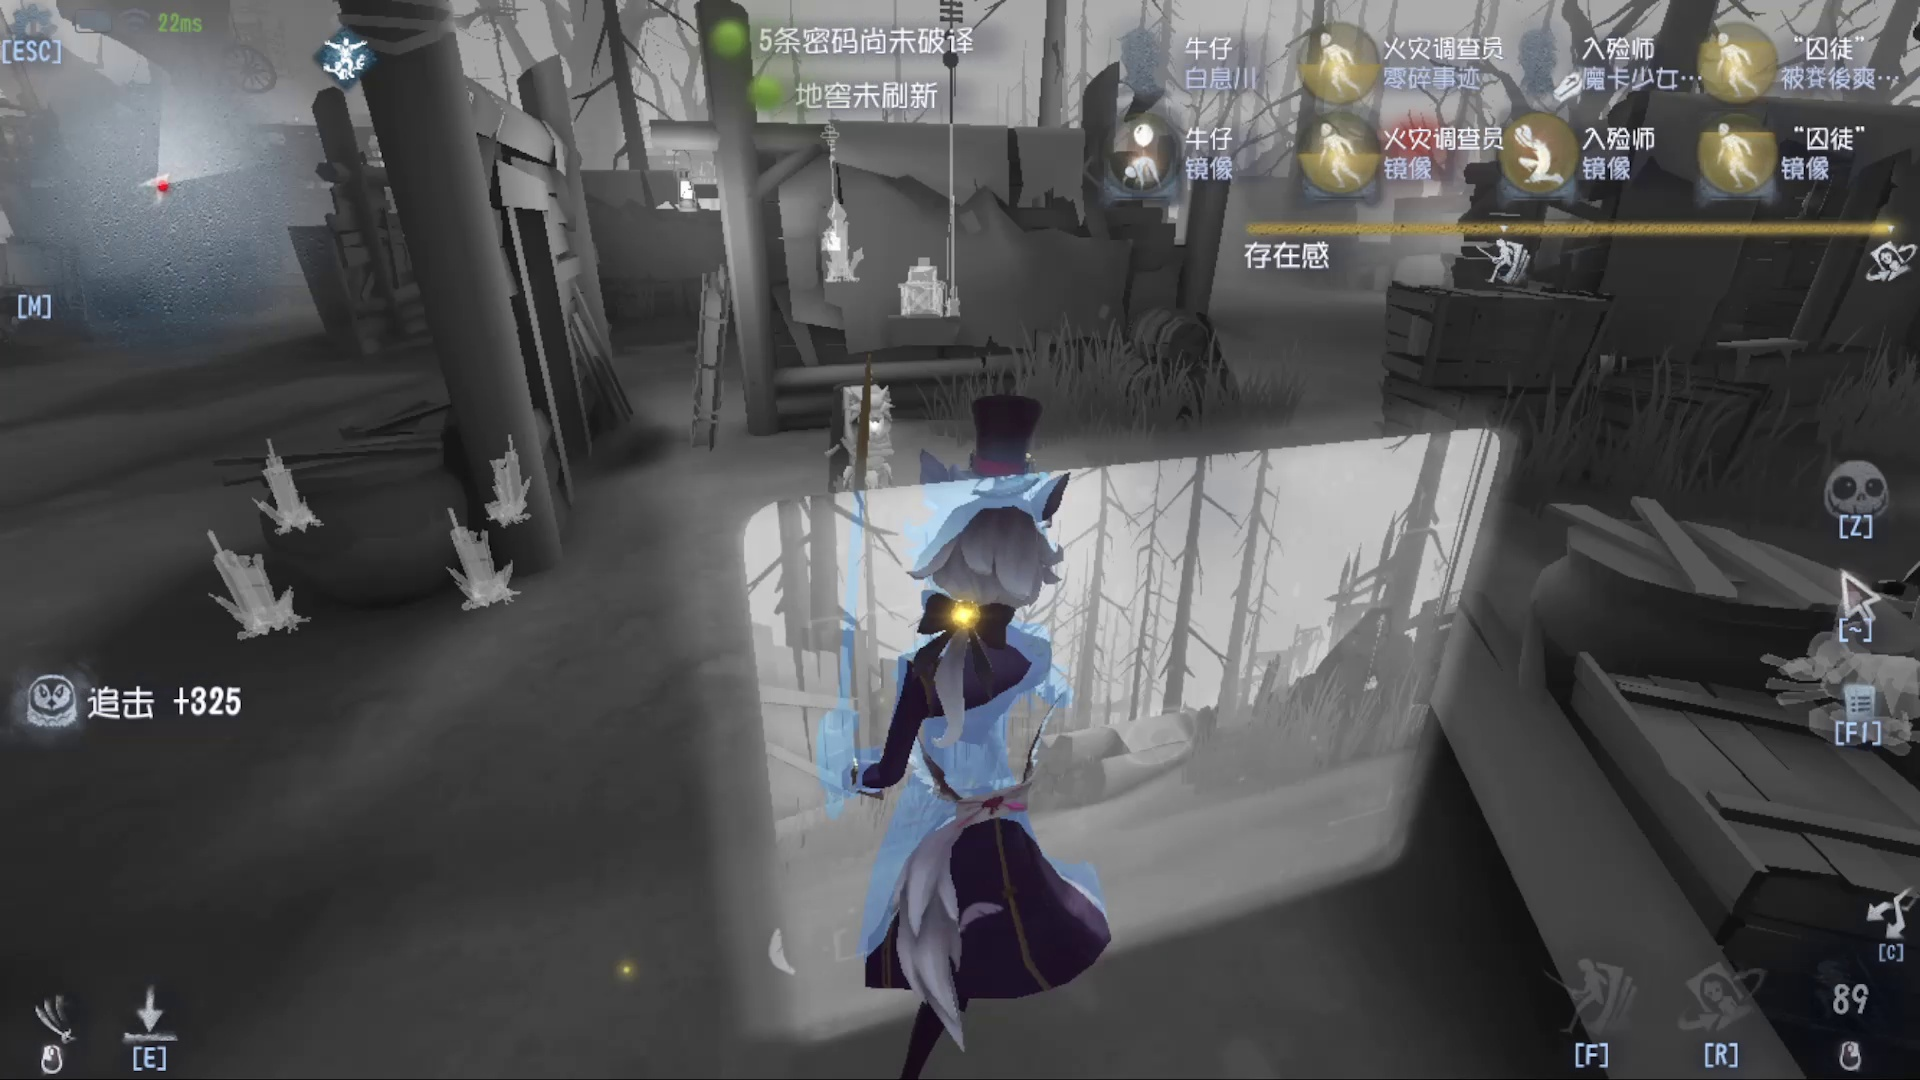木板: (657, 258, 746, 446)
求生者: (782, 378, 913, 491)
狂欢之椅: (179, 524, 331, 674), (413, 498, 545, 649)
